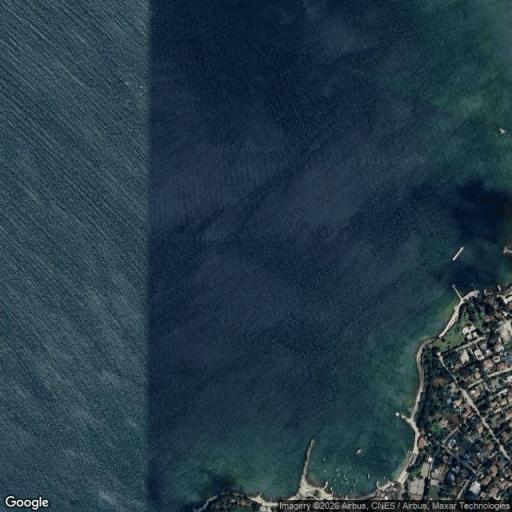ship: (356, 447, 363, 456), (322, 455, 327, 464), (349, 466, 355, 472), (367, 472, 371, 480), (334, 467, 340, 472), (345, 480, 350, 486), (356, 478, 359, 484), (354, 482, 358, 486), (341, 480, 345, 484), (323, 470, 328, 473), (343, 475, 347, 478), (335, 478, 337, 482)
